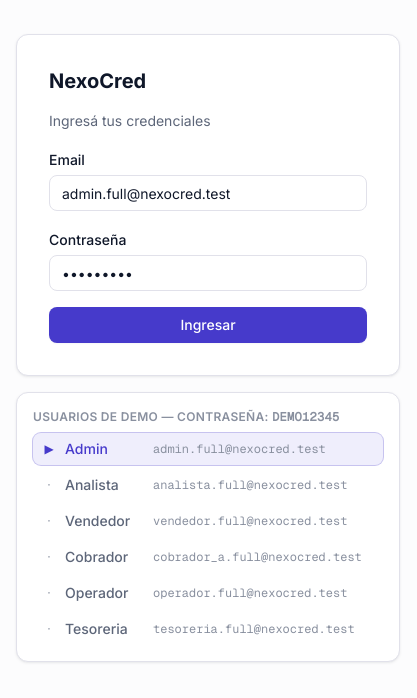
Scenario: LoginPage › muestra el error en español del sobre cuando las credenciales son invalidas
Replace the text in the field labelled "Email" with "x@y.com" at (208, 193), box [49,175,367,211]
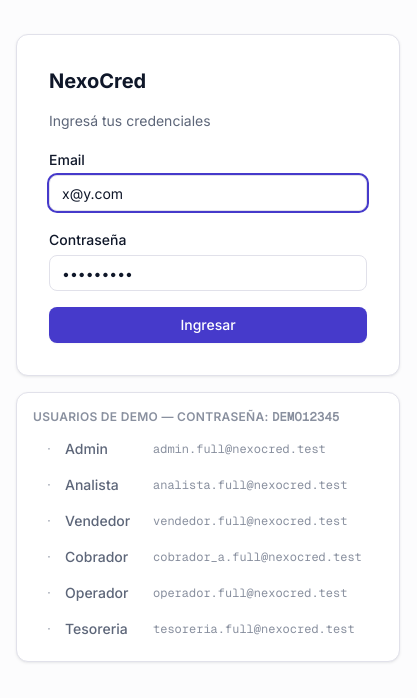
Type "bad" into the password field labelled "Contraseña" at (208, 273), box [49,255,367,291]
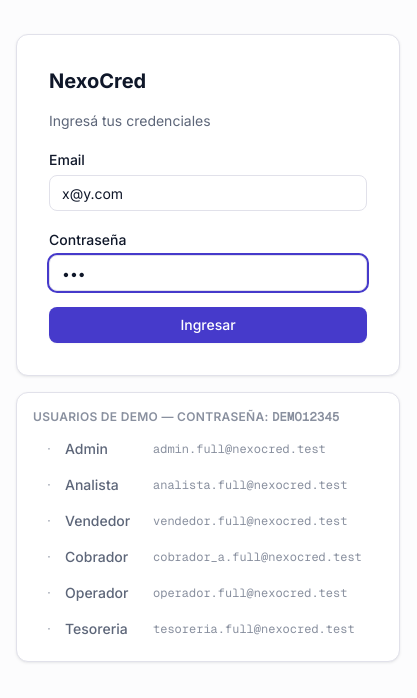
Click the button "Ingresar" at (208, 325), box [49,307,367,343]
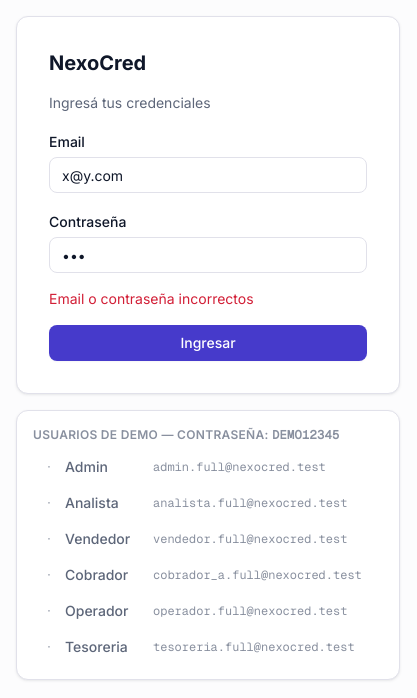
Now the text "Email o contraseña incorrectos" is shown, box [49,290,254,307]
